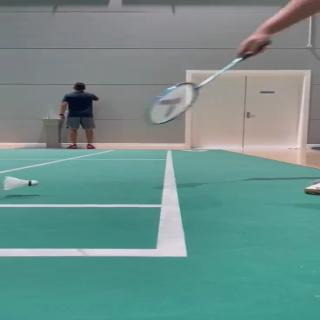Shuttle: (4, 176, 38, 190)
